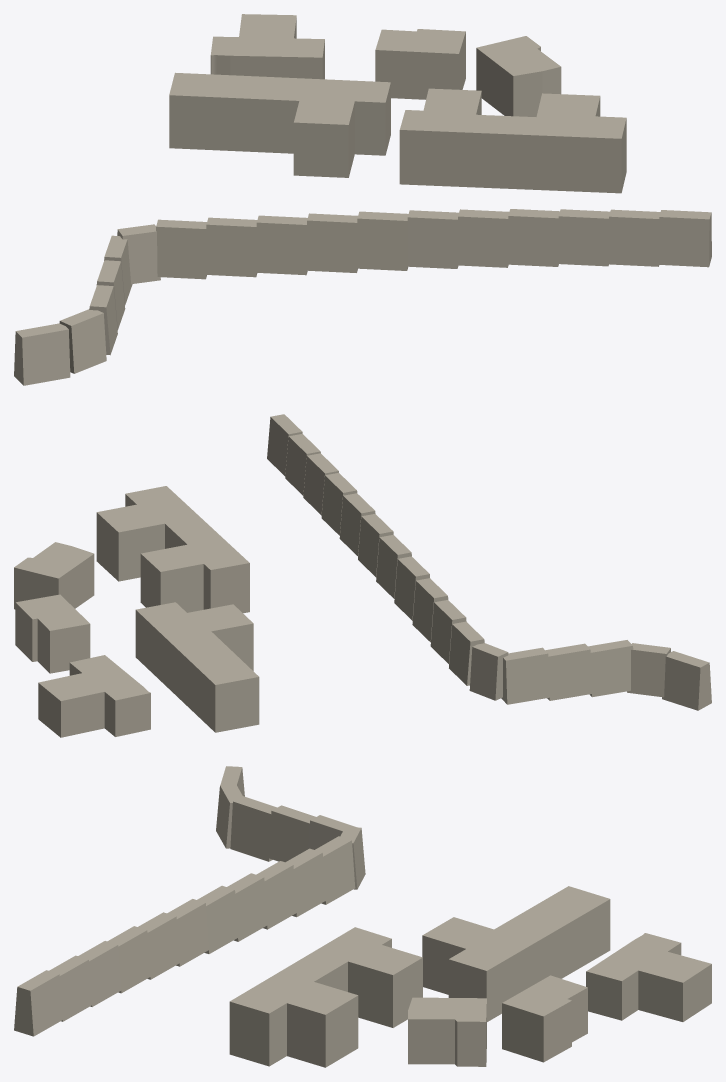
File: bormla_59_32_far.glb
3 renders of one model, top to bottom at view 1: azimuth 30°, elevation 25°; view 2: azimuth 150°, elevation 25°; view 3: azimuth 270°, elevation 25°, orthographic. The views are drawn at different scales.
Parts seen in each view (by area): view 1: geometry_0; view 2: geometry_0; view 3: geometry_0.
Part boxes in pixels (x1,y1,x2,y2): geometry_0: (14,14,711,385); geometry_0: (14,414,711,737); geometry_0: (14,766,711,1067).
Bounding box in the file's own units: 175 × 26.73 × 171.
